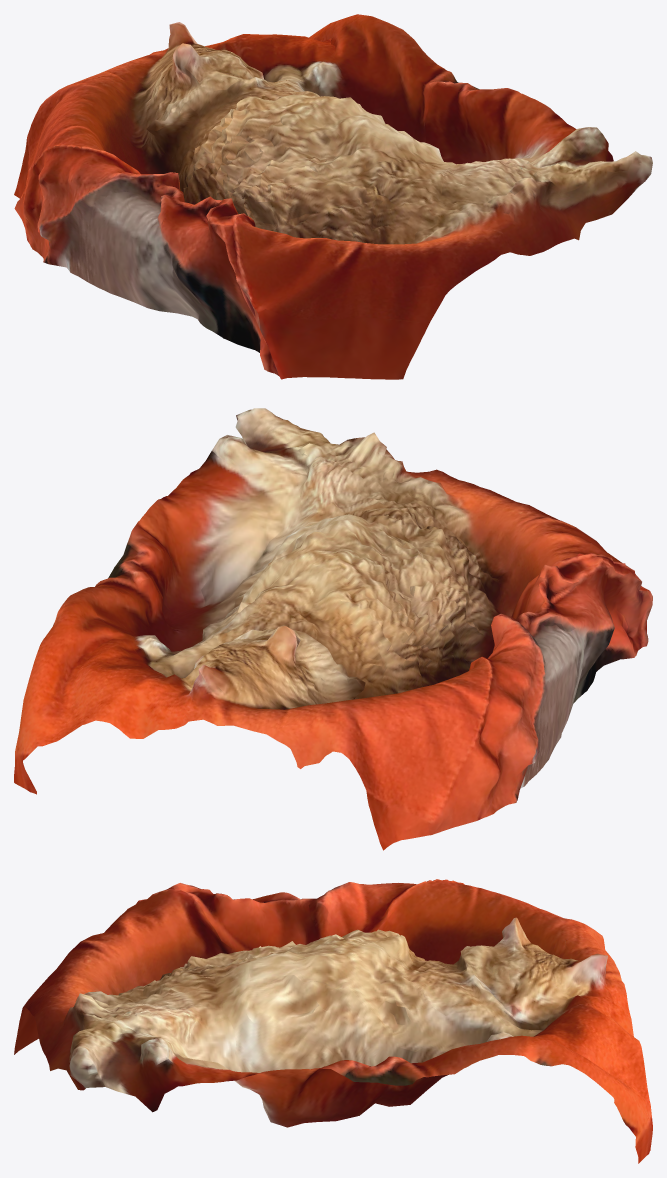
The model's file is cat.glb.
The picture shows the model from 3 angles, top to bottom: view 1: azimuth 30°, elevation 25°; view 2: azimuth 150°, elevation 25°; view 3: azimuth 270°, elevation 25°; orthographic projection. The views are drawn at different scales.
Visible parts, largest first — view 1: Object_2; view 2: Object_2; view 3: Object_2.
Boxes of the visible parts, bbox=[...] form: Object_2: bbox=[14, 14, 652, 379]; Object_2: bbox=[14, 408, 652, 850]; Object_2: bbox=[14, 879, 652, 1163].
Size of the model in its own units: 0.7335 by 0.234 by 0.8976.
1 material, 1 textured.
